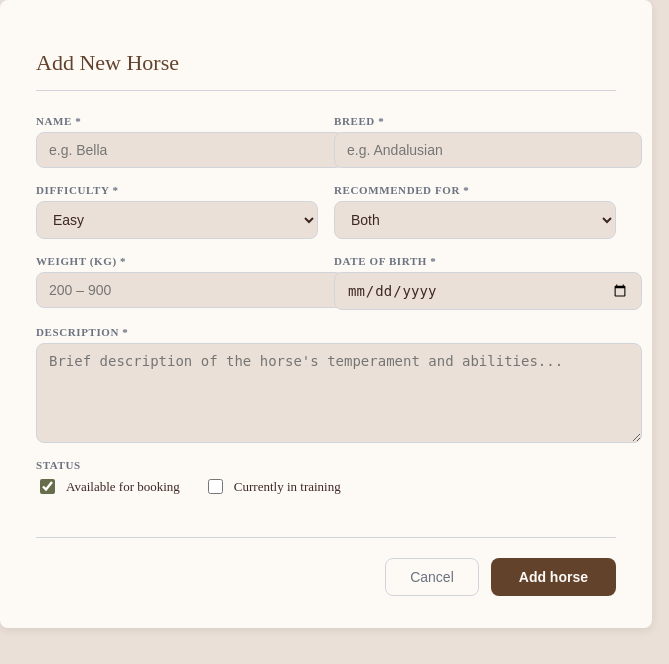
Scenario: HorseForm – Add mode › shows inline error for weight below 200 after blur
Type "50" into the number field labelled "Weight (kg) *" at [190, 290], box [36, 272, 344, 308]
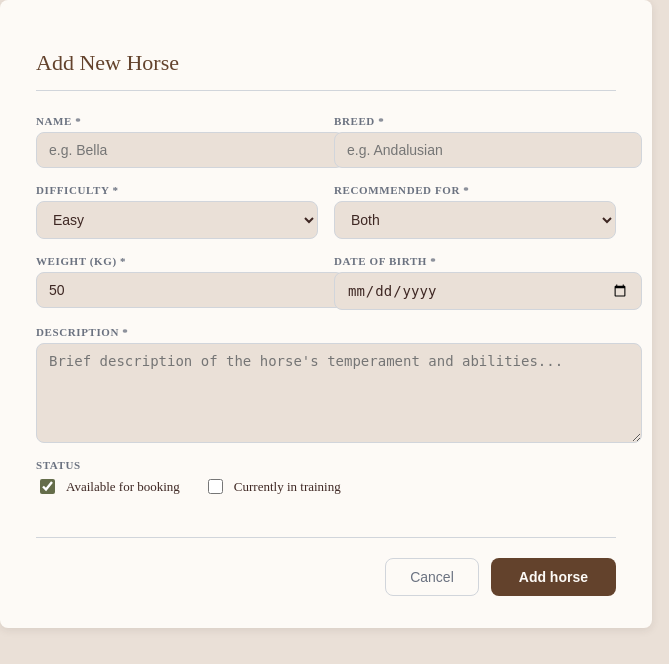
Leave the number field labelled "Weight (kg) *", box [36, 272, 344, 308]
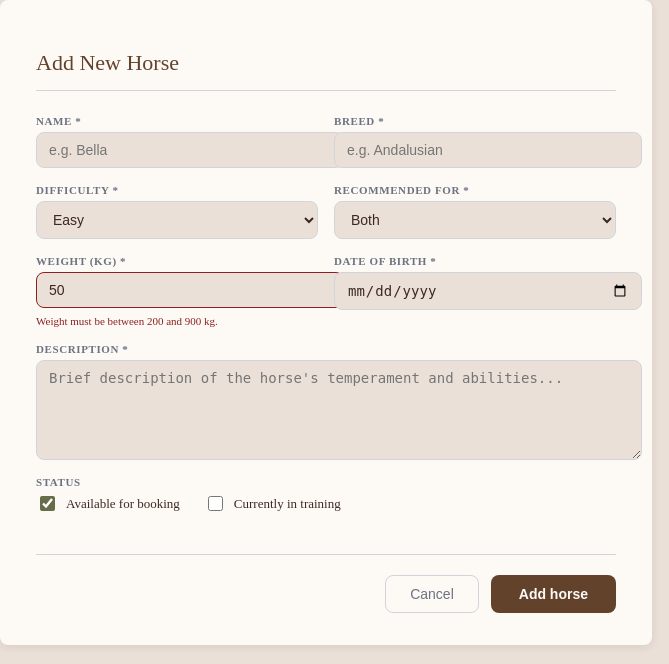
expect the text "Weight must be between 200 and 900 kg." is shown: met, box [36, 315, 218, 327]
